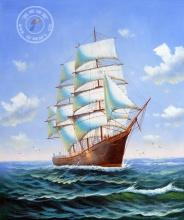fanchuan: (37, 23, 149, 171)
